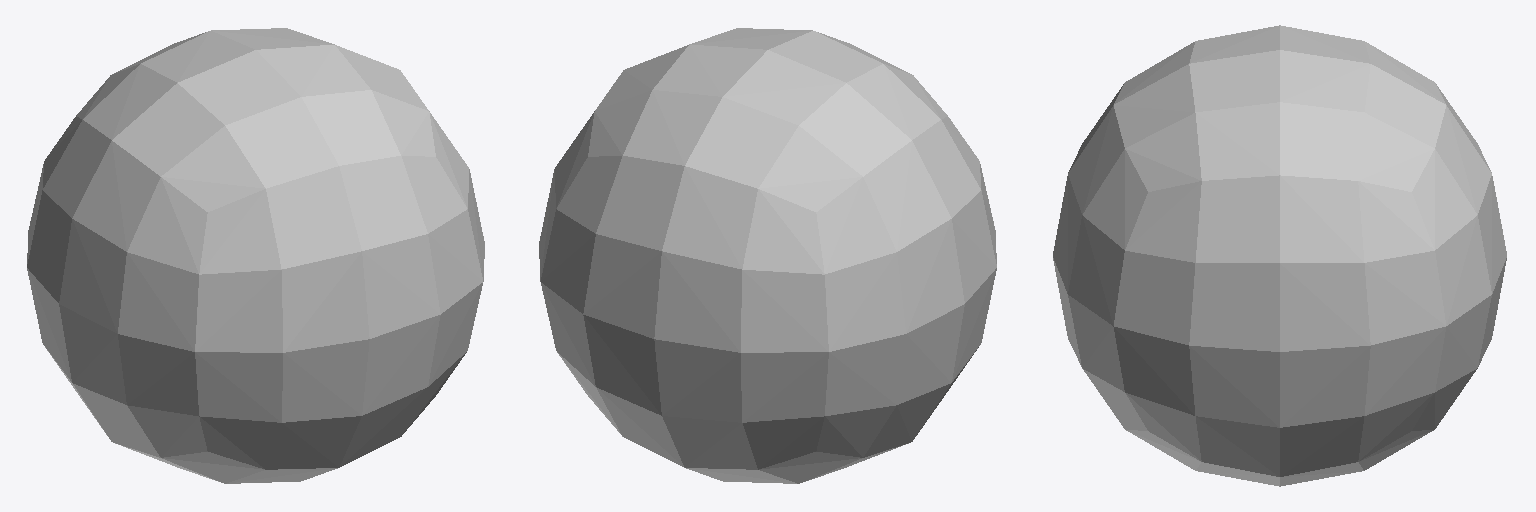
The model's file is head.obj.
3 renders of one model, left to right at view 1: azimuth 30°, elevation 25°; view 2: azimuth 150°, elevation 25°; view 3: azimuth 270°, elevation 25°, orthographic.
Visible parts, largest first — view 1: Cube; view 2: Cube; view 3: Cube.
Boxes of the visible parts, x1,y1,x2,y2 form: Cube: [27, 28, 484, 483]; Cube: [539, 28, 996, 483]; Cube: [1053, 25, 1506, 486].
Bounding box in the file's own units: 1.76 × 1.76 × 1.76.